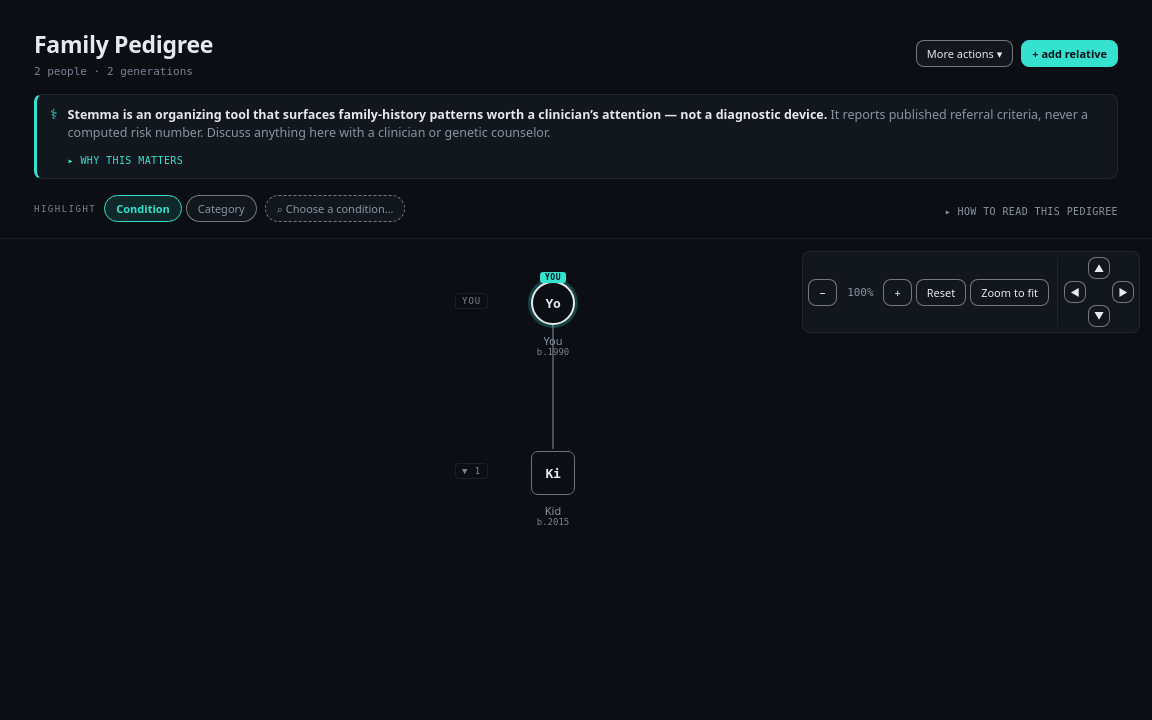
it: PedigreeView › keeps focus inside the popover when Category mode has no categories to list
The width and height of the screenshot is (1152, 720).
Click the button "Category": (221, 209) x1=186 y1=195 x2=257 y2=222
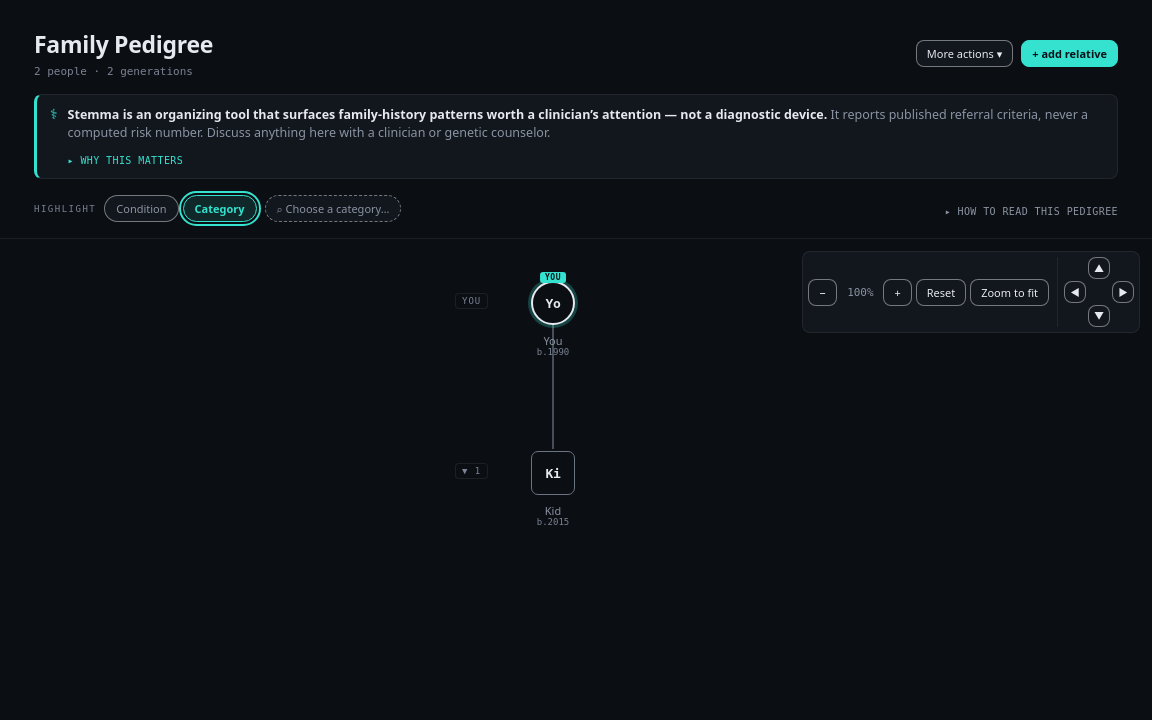
Click the button "⌕ Choose a category…": (333, 209) x1=264 y1=195 x2=401 y2=222
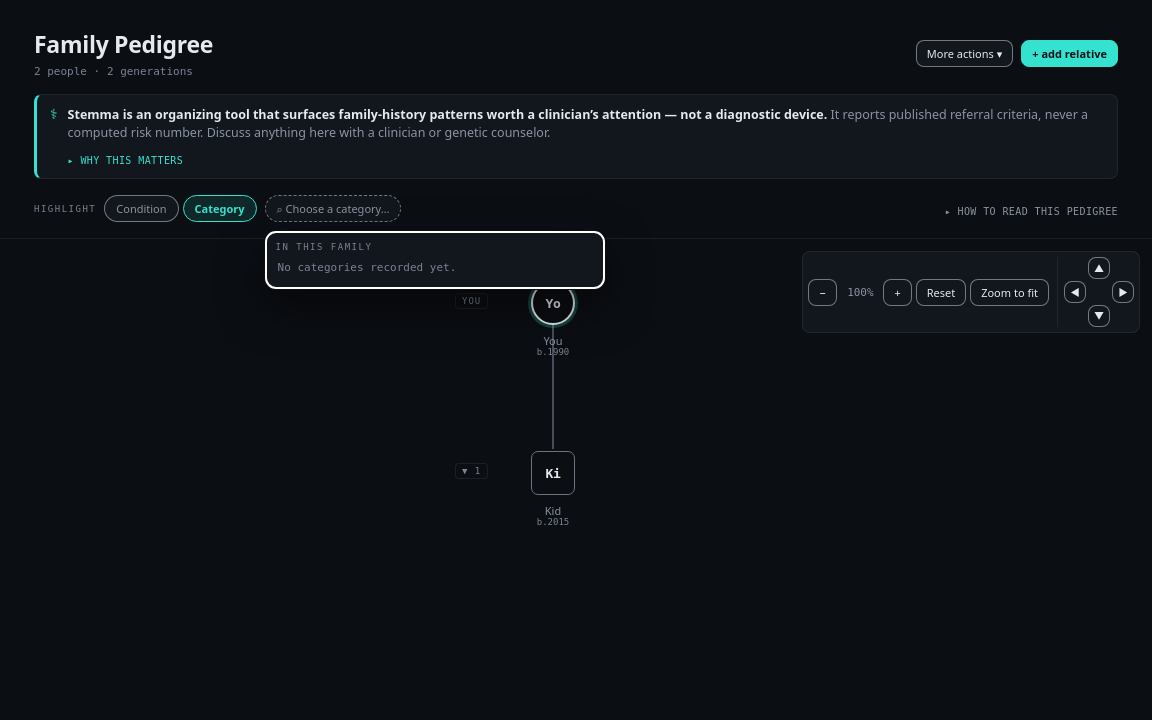
Expected: the dialog named "highlight a category" shows "No categories recorded yet", x1=264 y1=231 x2=604 y2=289
